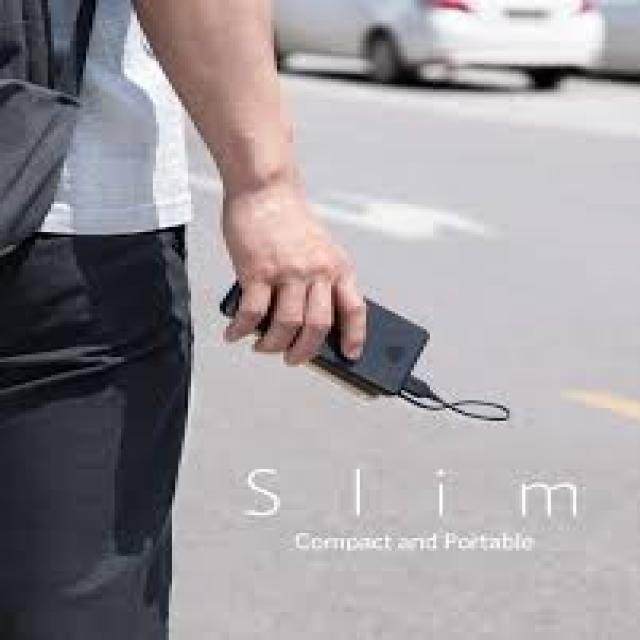portable-charger: (223, 258, 430, 398)
